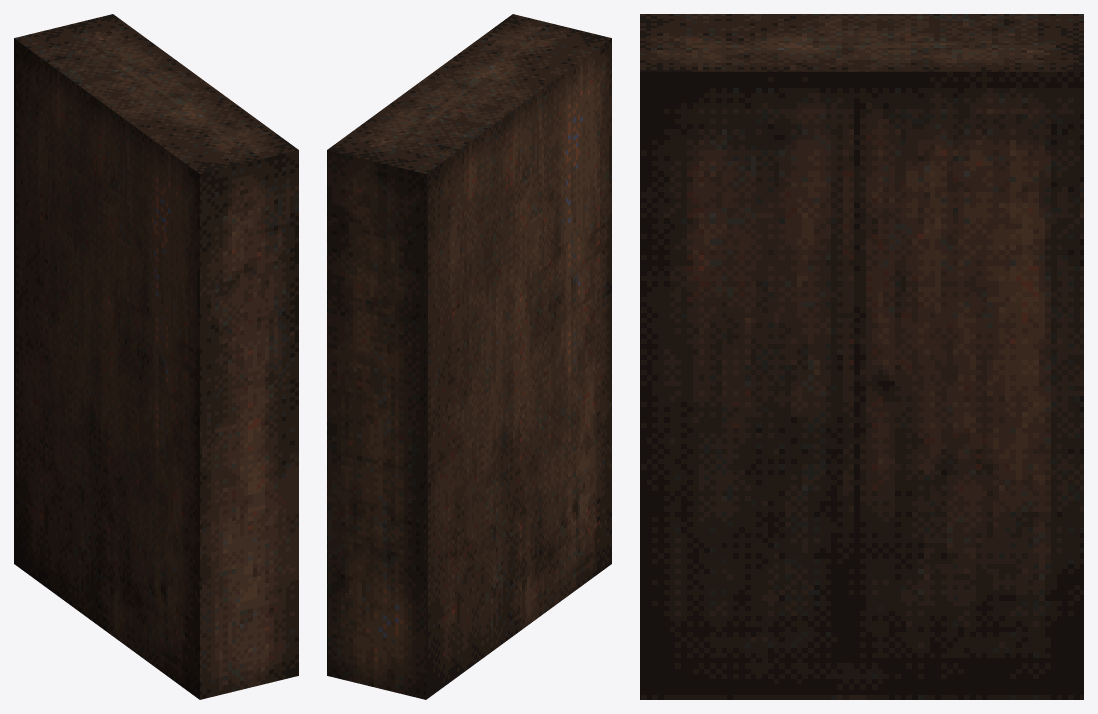
The model's file is wardrobe.glb.
3 renders of one model, left to right at view 1: azimuth 30°, elevation 25°; view 2: azimuth 150°, elevation 25°; view 3: azimuth 270°, elevation 25°, orthographic. The views are drawn at different scales.
Visible parts, largest first — view 1: wardrobe-col; view 2: wardrobe-col; view 3: wardrobe-col.
Boxes of the visible parts, x1=… form: wardrobe-col: x1=14, y1=14, x2=298, y2=699; wardrobe-col: x1=327, y1=14, x2=611, y2=699; wardrobe-col: x1=640, y1=14, x2=1083, y2=699.
Size of the model in its own units: 0.4 by 2.03 by 1.3.
1 material, 1 textured.
